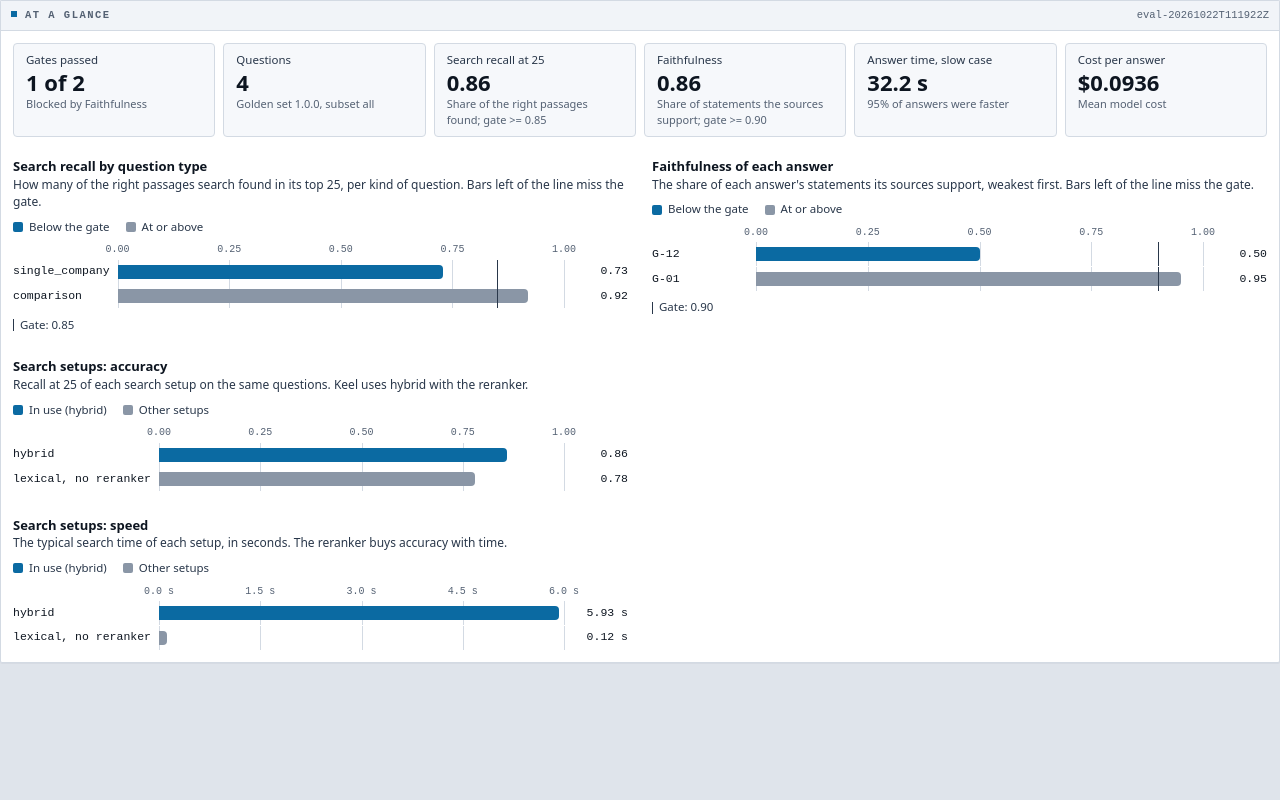
Test case: EvalOverview › shows a tooltip on keyboard focus
The width and height of the screenshot is (1280, 800).
Focus the button named "G-12: 0.50, trend": {"x": 980, "y": 254} [756,242,1203,266]
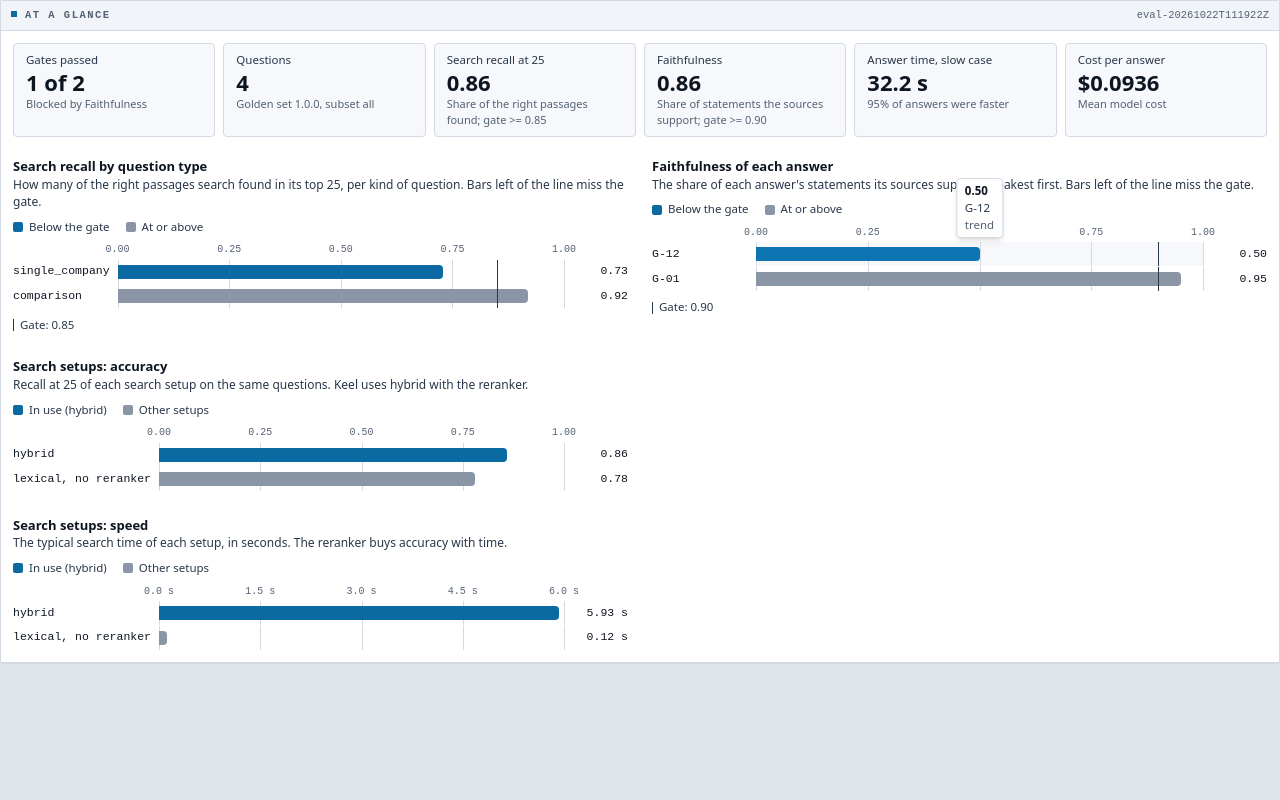
Now the tooltip reads "0.50 G-12 trend", box [956,178,1003,238]
Leave the button "0.50 G-12 trend", box [756,242,1203,266]
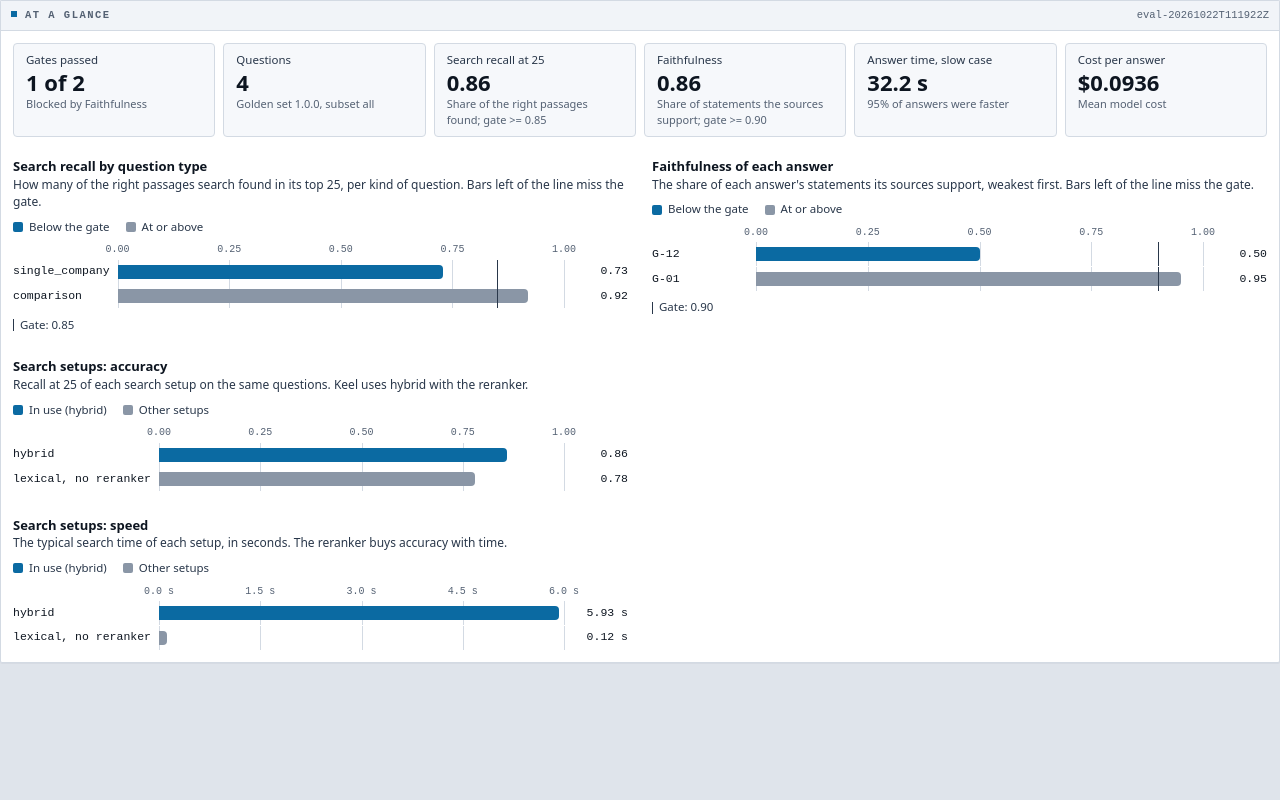
Now the tooltip "0.50 G-12 trend" is gone
